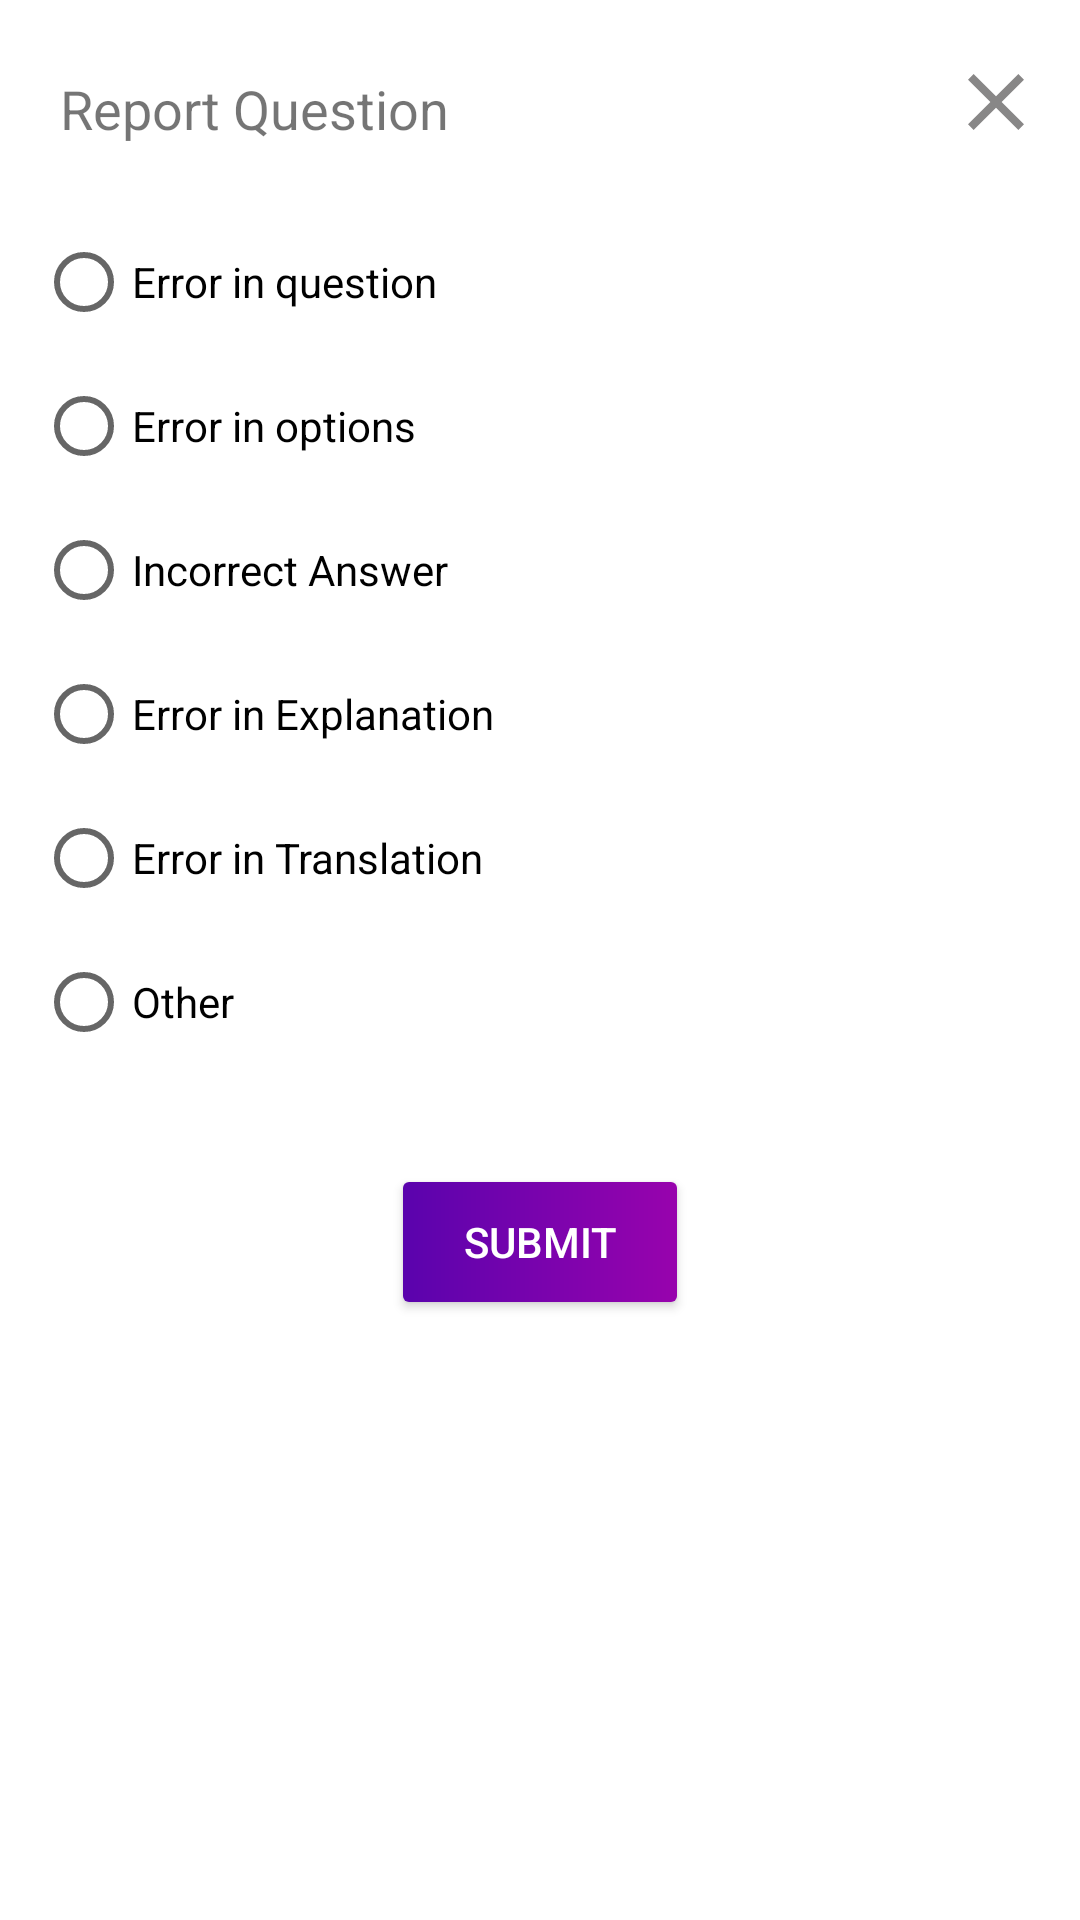

Point at icon controls on the screen. Image size 1080 x 1920, points as (x,y).
close: (996,102)
